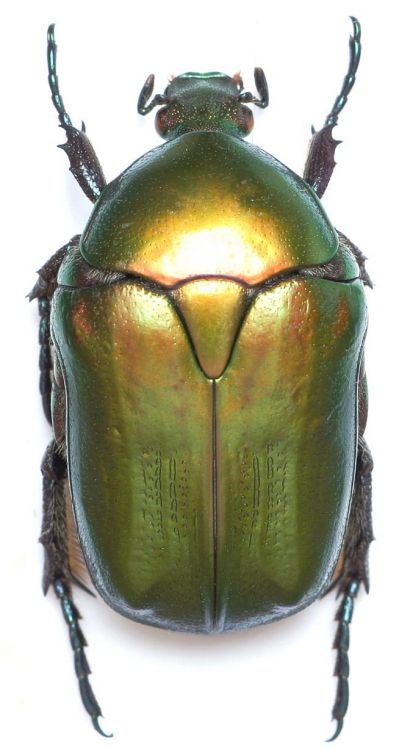Protaetia_cuprea_ignicollis: (23, 1, 388, 748)
